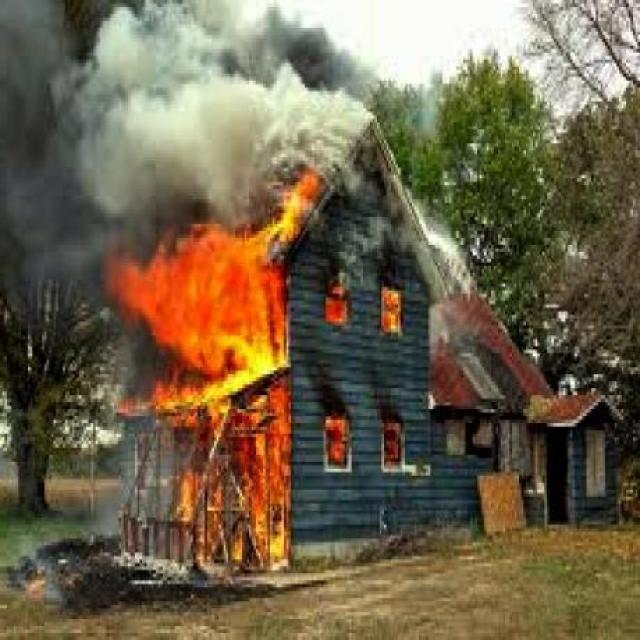Fire: (112, 209, 288, 570), (309, 415, 346, 468), (380, 414, 408, 466), (324, 282, 356, 326), (374, 286, 406, 330)
Smoke: (0, 0, 365, 210), (6, 213, 96, 321)
